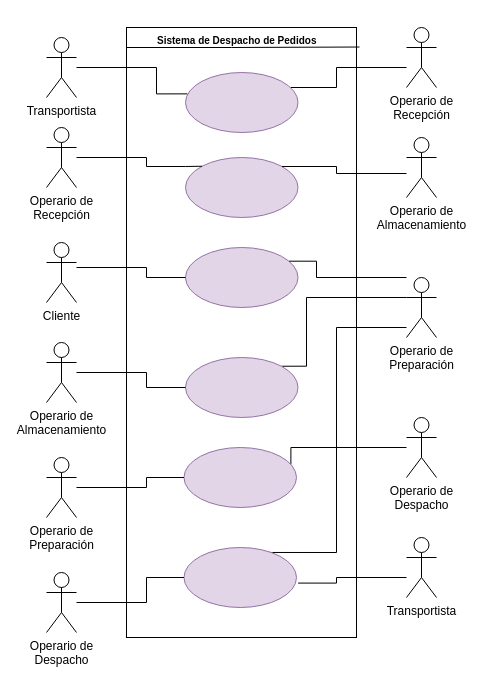
Image size: 483x685. Some labels were removed from this diagram. The box of each missing label's shape, as (x1, y1, x2, y2) in pixels:
Cumplir Orden de Selección: (184, 356, 298, 418)
Empaquetar Pedido y Generar Orden de Entrega: (183, 446, 296, 508)
Entregar Mercadería al Transportista: (183, 546, 296, 608)
Ingreso a Stock: (184, 156, 298, 218)
Recepción de mercadería: (184, 72, 298, 132)
Registrar Orden de Preparación: (184, 246, 298, 308)
